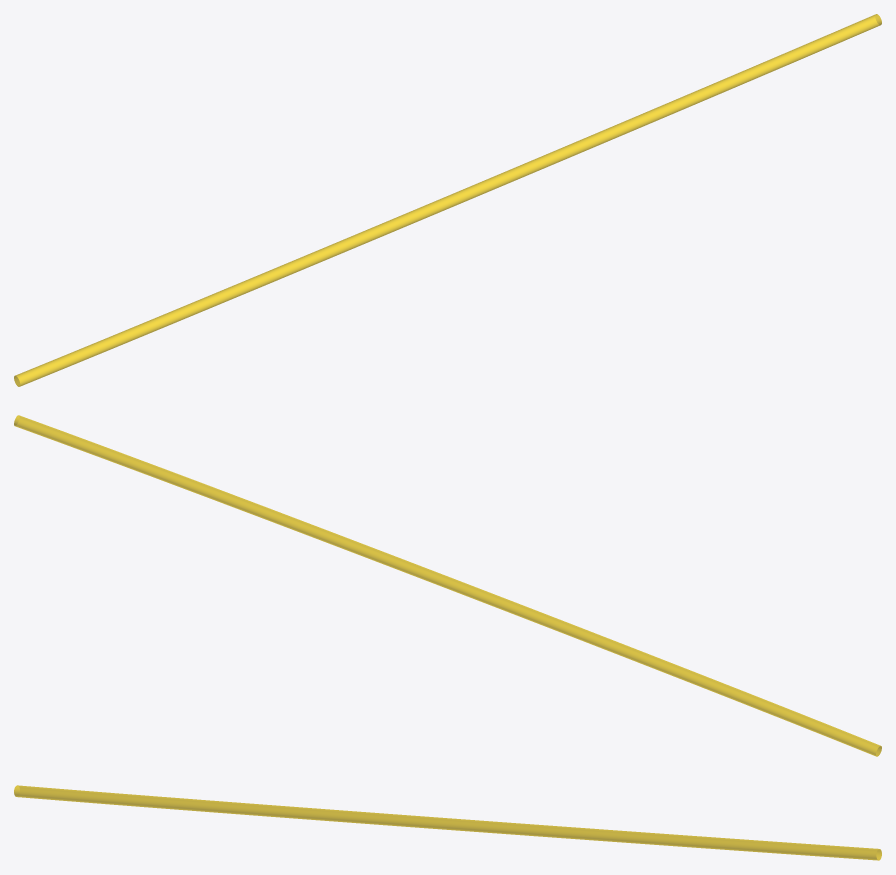
File: Event_419990632_track_34.fbx
The picture shows the model from 3 angles, top to bottom: view 1: azimuth 30°, elevation 25°; view 2: azimuth 150°, elevation 25°; view 3: azimuth 330°, elevation 25°; orthographic projection. The views are drawn at different scales.
Visible parts, largest first — view 1: Model; view 2: Model; view 3: Model.
Part boxes in pixels (left/top/right/bottom): Model: left=14, top=14, right=881, bottom=386; Model: left=14, top=415, right=881, bottom=756; Model: left=14, top=785, right=881, bottom=860.
Bounding box in the file's own units: 3.34 × 0.5408 × 0.1327.
